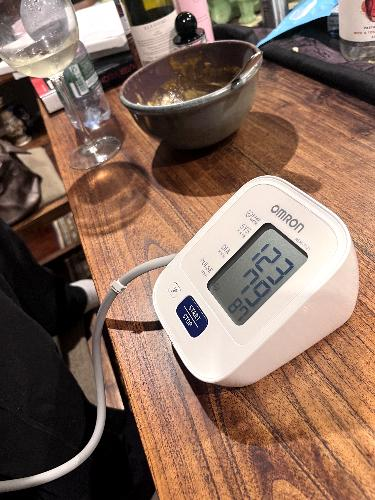bpm: (199, 214, 313, 329)
